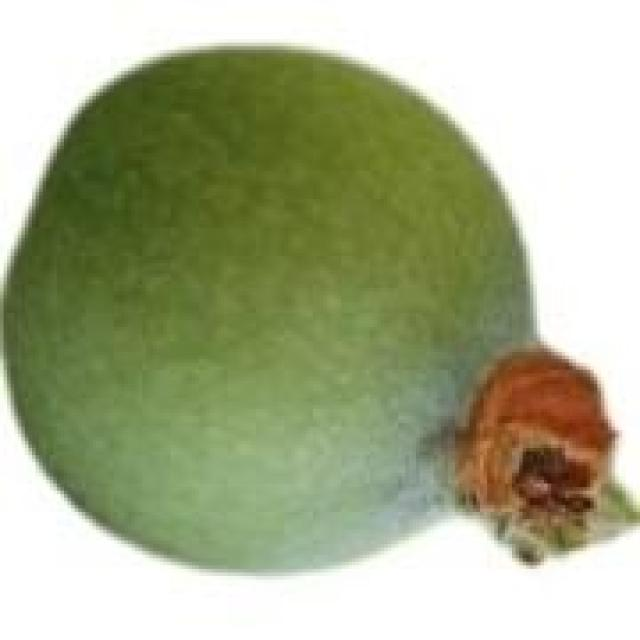Rotten Apple: (13, 64, 631, 580)
